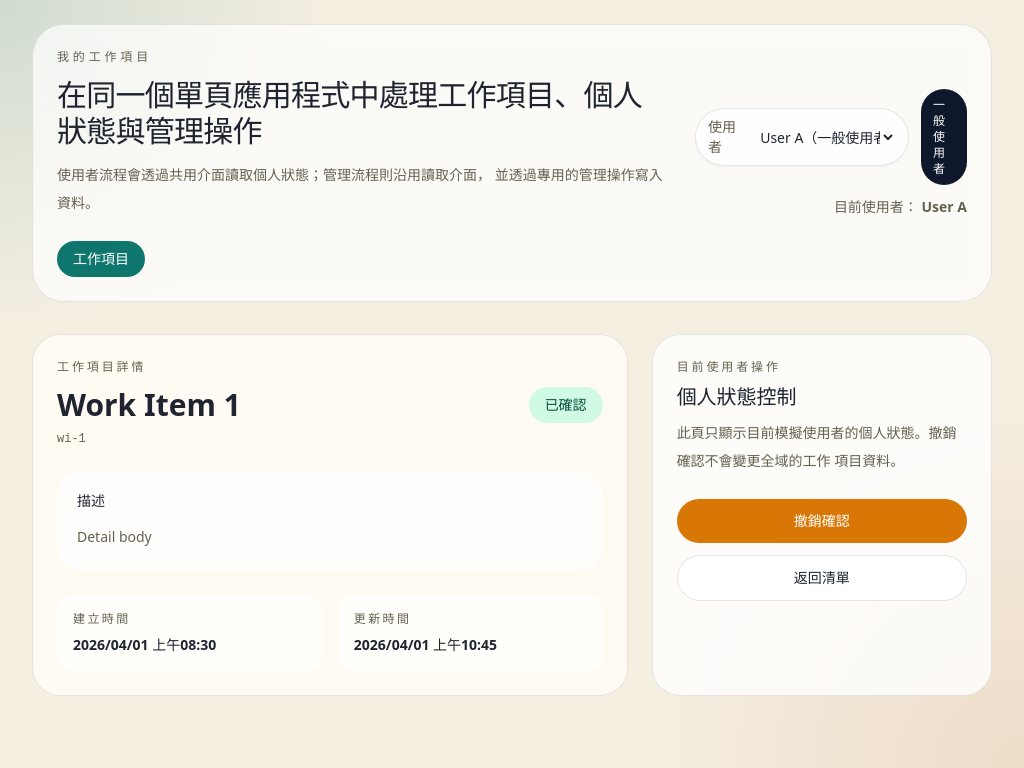
Test: WorkItemDetailPage › WorkItemDetailPage_WhenRevertFails_ShowsOperationError
The image size is (1024, 768).
Expected: the heading "Work Item 1" is shown, left=57, top=387, right=241, bottom=423
Click the button "撤銷確認" at (822, 521), box left=677, top=499, right=967, bottom=543
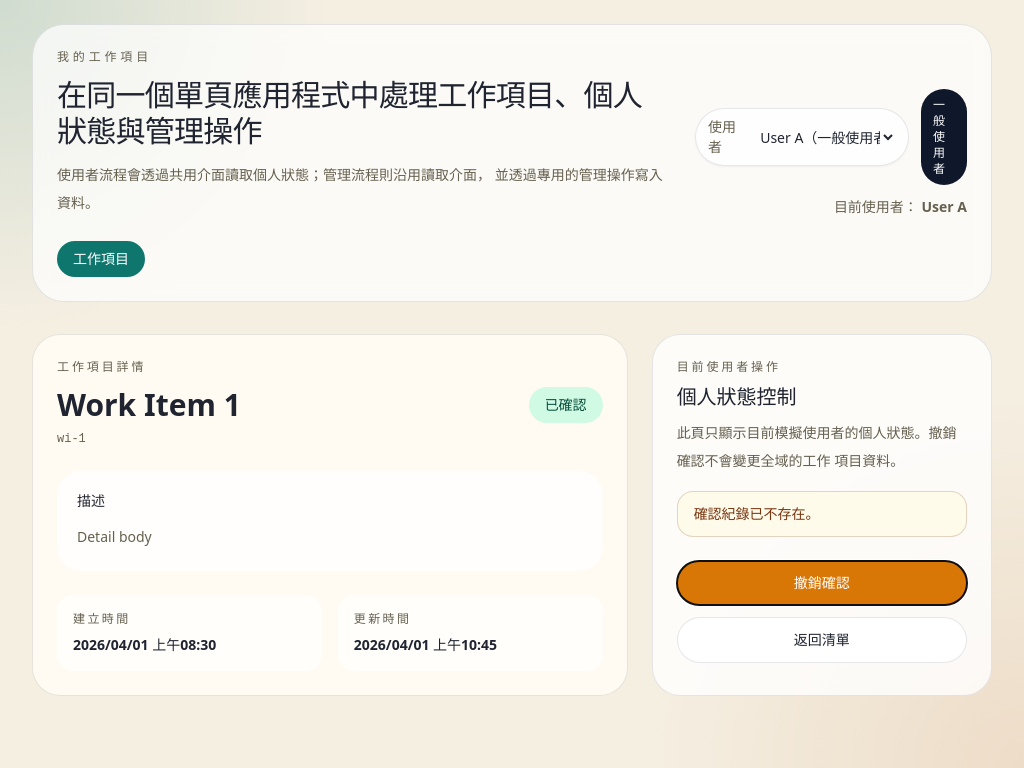
Expected: the button "撤銷確認" is shown, left=677, top=561, right=967, bottom=605
Now the text "確認紀錄已不存在。" is shown, box left=677, top=491, right=967, bottom=537
